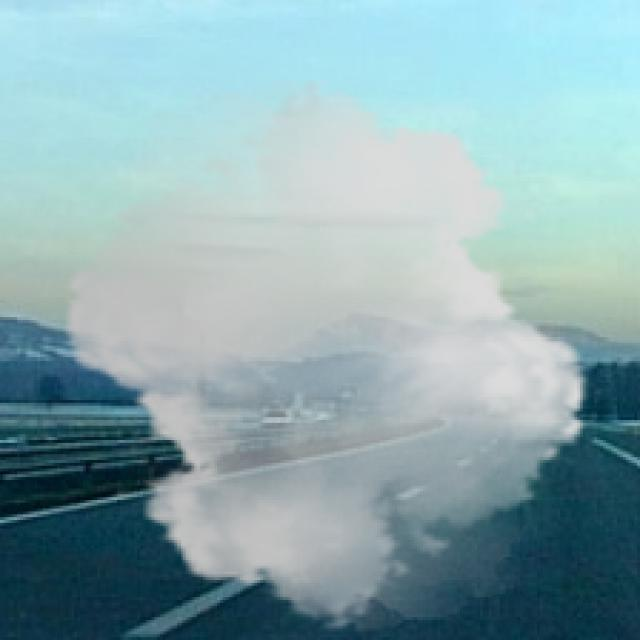smoke: (43, 80, 608, 631)
